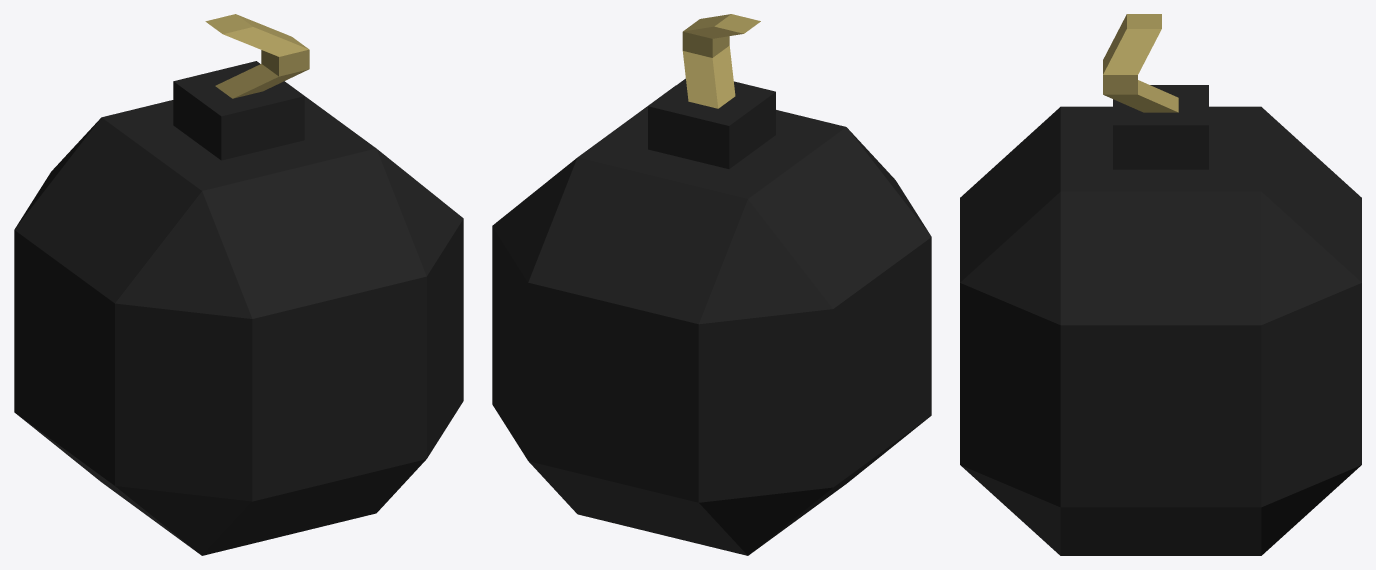
Rendered from Bomb.fbx.
3 views of the same model, side by side, from view 1: azimuth 30°, elevation 25°; view 2: azimuth 150°, elevation 25°; view 3: azimuth 270°, elevation 25° (orthographic). The views are drawn at different scales.
Visible parts, largest first — view 1: pCube1; view 2: pCube1; view 3: pCube1.
Boxes of the visible parts, x1,y1,x2,y2 form: pCube1: (14,14,463,555); pCube1: (492,14,931,555); pCube1: (960,14,1361,555).
Size of the model in its own units: 1 by 1.33 by 1.
